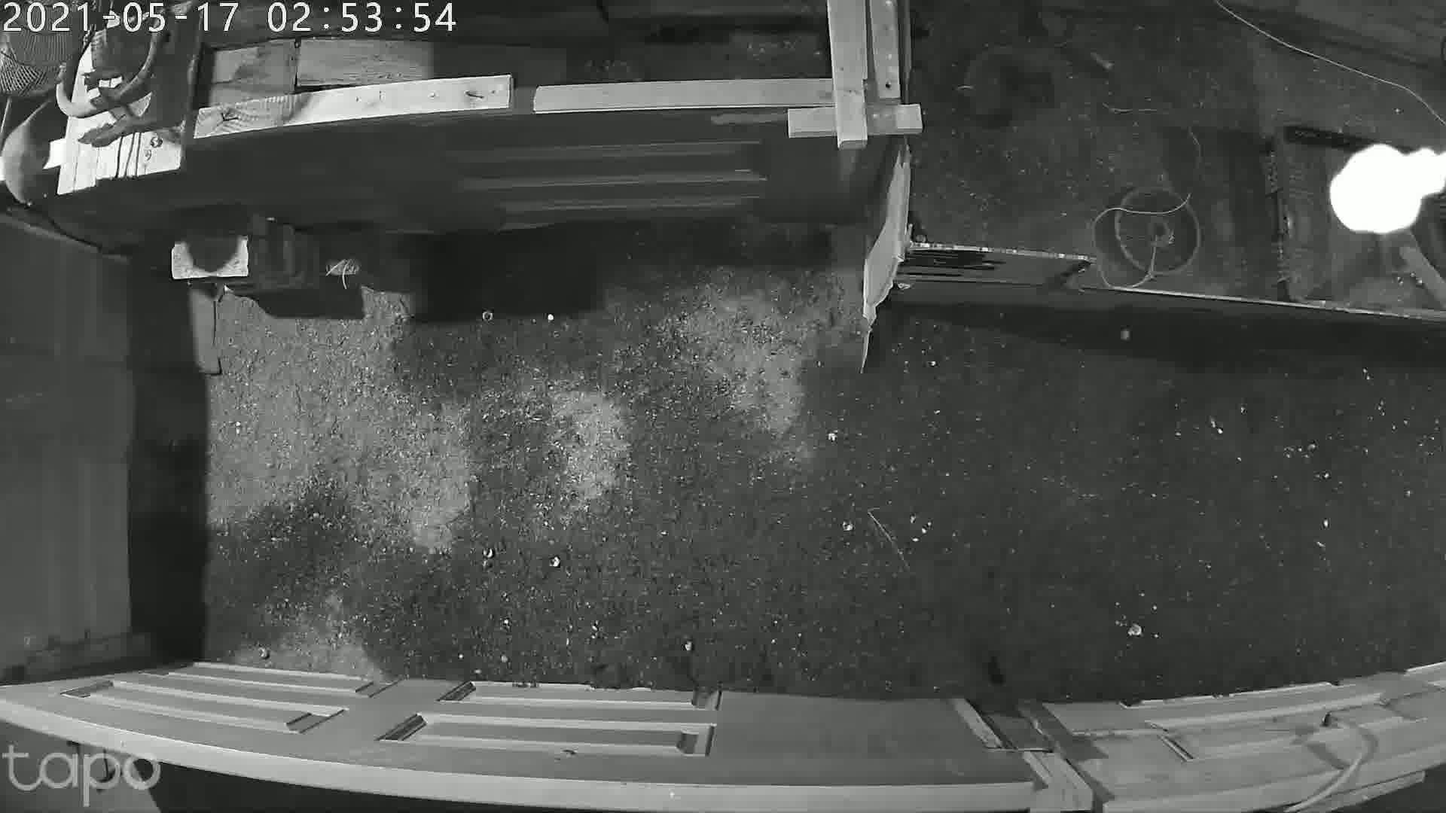rat: (8, 89, 58, 229)
